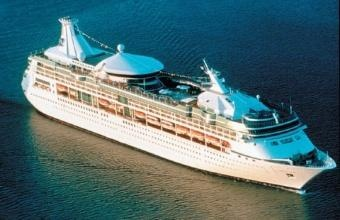youlun: (20, 16, 336, 191)
